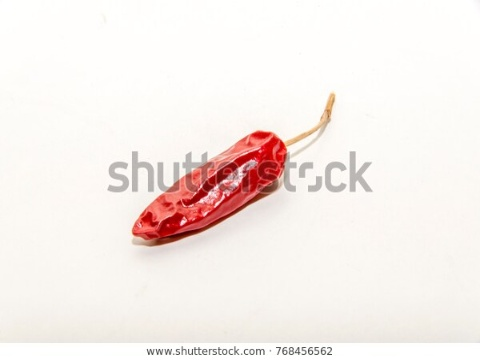Chilli: (123, 107, 330, 250)
